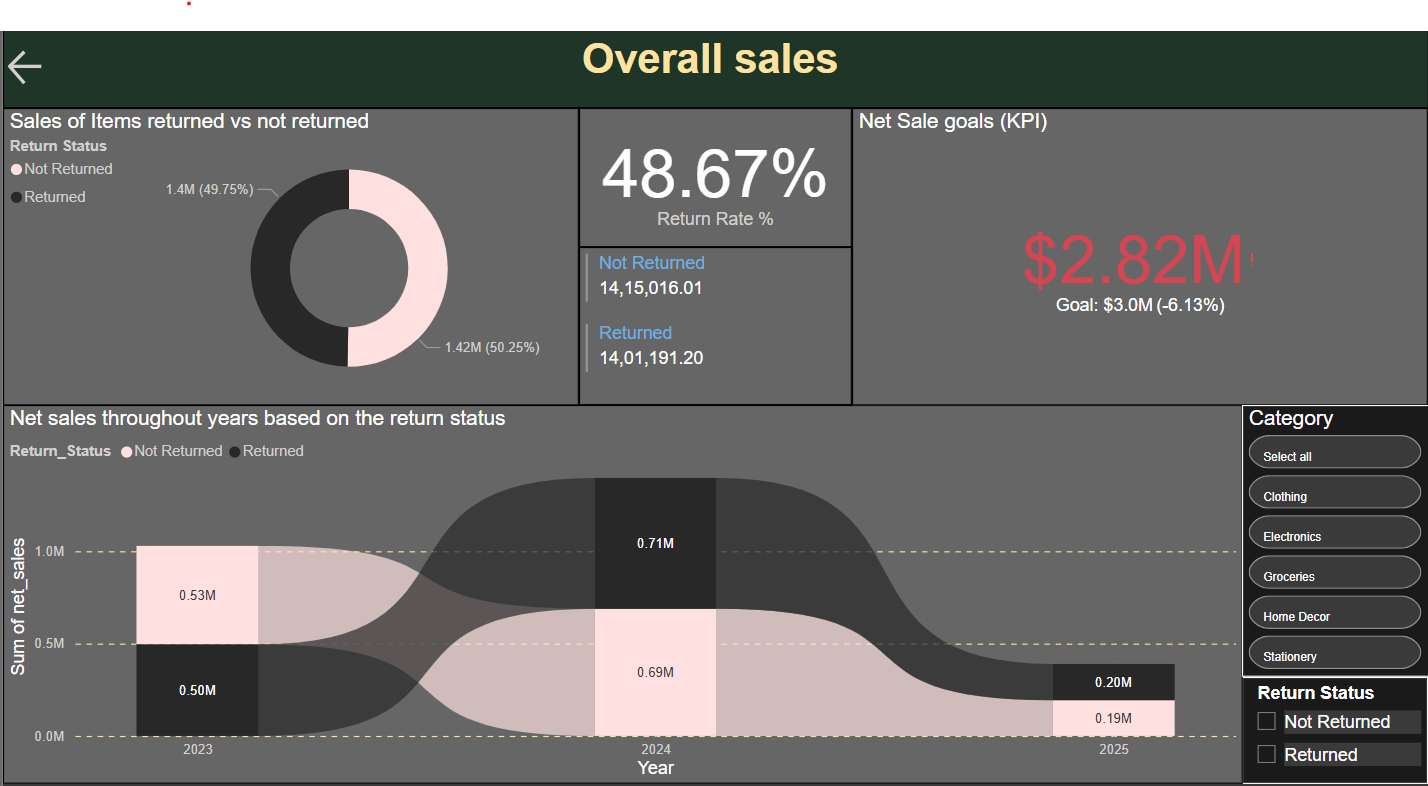

The page's visual inventory and layout, read from the dashboard file:
{"tool":"powerbi","page":{"name":"Page 3","canvas":[1280,720],"ordinal":2},"visuals":[{"type":"card","fields":{"Values":["preprocessed_data_2.Return Rate %"]},"box":[517.1,71.8,245.1,124.8],"z":0},{"type":"textbox","box":[0,0,1280,72],"z":1000},{"type":"donutChart","title":"Sales of Items returned vs not returned","fields":{"Y":["Sum(preprocessed_data_2.net_sales)"],"Category":["preprocessed_data_2.Return_Status"]},"box":[0,72,517.4,266.5],"z":2000},{"type":"multiRowCard","fields":{"Values":["Sum(preprocessed_data_2.net_sales)","preprocessed_data_2.Return_Status"]},"box":[517.1,196.6,245.1,141.8],"z":3000},{"type":"slicer","title":"Return Status","fields":{"Values":["preprocessed_data_2.Return_Status"]},"box":[1112.7,582.6,167.3,96.3],"z":4000},{"type":"ribbonChart","title":"Net sales throughout years based on the return status","fields":{"Category":["preprocessed_data_2.Purchase_Date.Variation.Date Hierarchy.Year","preprocessed_data_2.Purchase_Date.Variation.Date Hierarchy.Quarter","preprocessed_data_2.Purchase_Date.Variation.Date Hierarchy.Month","preprocessed_data_2.Purchase_Date.Variation.Date Hierarchy.Day"],"Y":["Sum(preprocessed_data_2.net_sales)"],"Series":["preprocessed_data_2.Return_Status"]},"box":[0,338.5,1112.7,340.4],"z":5000},{"type":"kpi","title":"Net Sale goals (KPI)","fields":{"TrendLine":["preprocessed_data_2.Purchase_Date"],"Indicator":["preprocessed_data_2.Net Sales (all time)"],"Goal":["preprocessed_data_2.Target"]},"box":[762.6,72,517.4,266.5],"z":6000},{"type":"advancedSlicerVisual","title":"Category","fields":{"Values":["preprocessed_data_2.Product_Category"]},"box":[1112.3,338.5,167.9,244.2],"z":7000},{"type":"actionButton","box":[0,15.3,99.7,40.4],"z":8000}]}

Visuals, with their boxes in screenshot pixels (x1, y1, x2, y2), scaled from the page's 1280x720 canvas onto the 1428x786 screenshot:
card - preprocessed_data_2.Return Rate %: bbox(577, 78, 850, 215)
textbox: bbox(0, 0, 1427, 79)
"Sales of Items returned vs not returned" donutChart: bbox(0, 79, 577, 370)
multiRowCard - Sum(preprocessed_data_2.net_sales) x preprocessed_data_2.Return_Status: bbox(577, 215, 850, 369)
"Return Status" slicer: bbox(1241, 636, 1427, 741)
"Net sales throughout years based on the return status" ribbonChart: bbox(0, 370, 1241, 741)
"Net Sale goals (KPI)" kpi: bbox(851, 79, 1427, 370)
"Category" advancedSlicerVisual: bbox(1241, 370, 1427, 636)
actionButton: bbox(0, 17, 111, 61)
